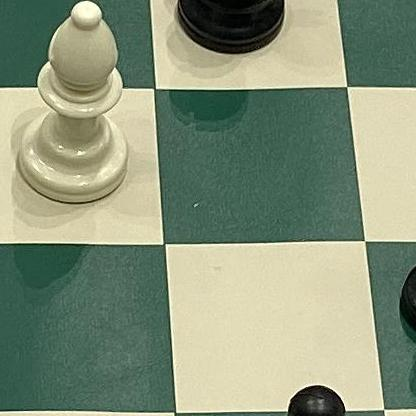black-pawn: (234, 360, 375, 416), (384, 180, 416, 359)
black-rook: (158, 0, 311, 66)
white-bishop: (0, 0, 147, 226)
